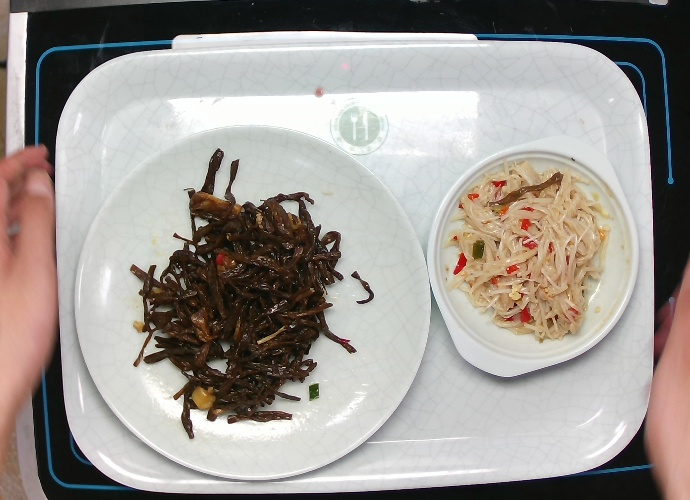JYsf-Da_Yuan_Pan: (73, 117, 428, 483)
JYsf-Shuang_Er_Pan: (425, 133, 646, 386)
